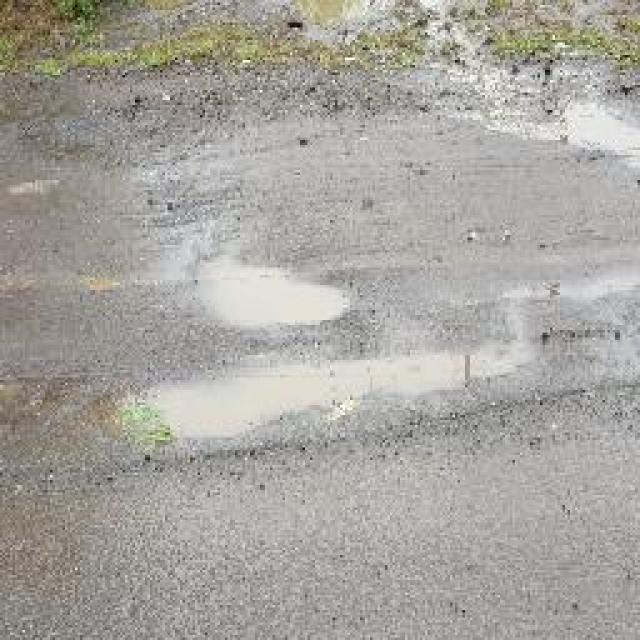puddle: (140, 348, 528, 456), (200, 263, 352, 335)
